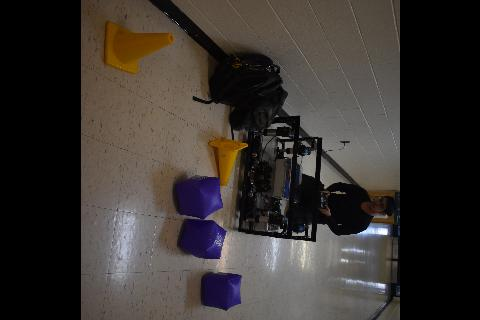cone: (104, 22, 174, 74), (208, 138, 248, 186)
cube: (174, 174, 222, 218), (179, 220, 225, 260), (200, 272, 240, 310)
